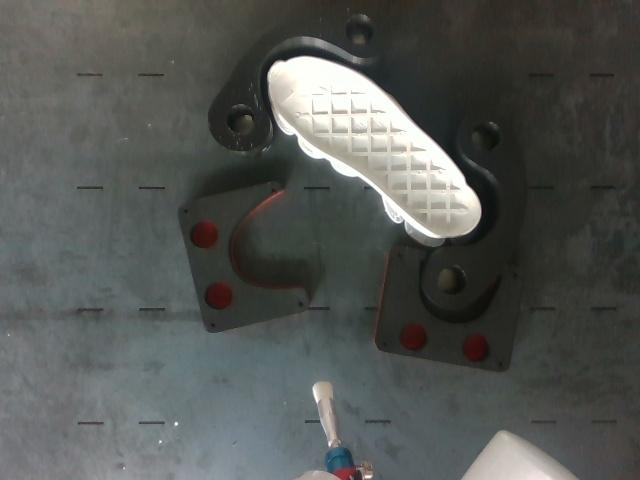shoes: (269, 57, 480, 237)
